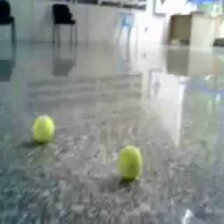tennis: (117, 146, 142, 177), (31, 114, 55, 142)
